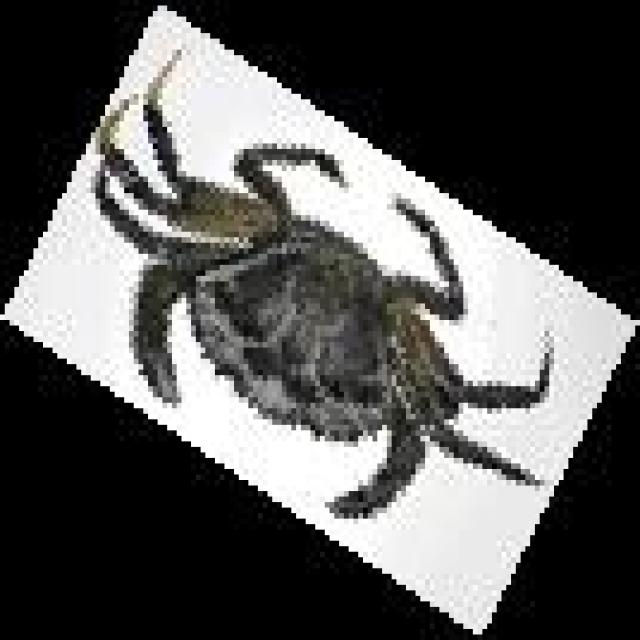European Green crab: (91, 50, 549, 513)
